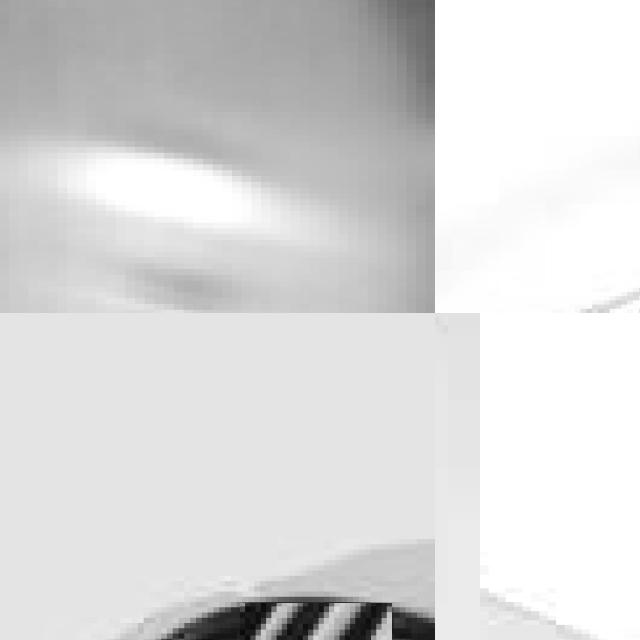forks: (435, 382, 577, 640)
spoons: (0, 0, 435, 313)
